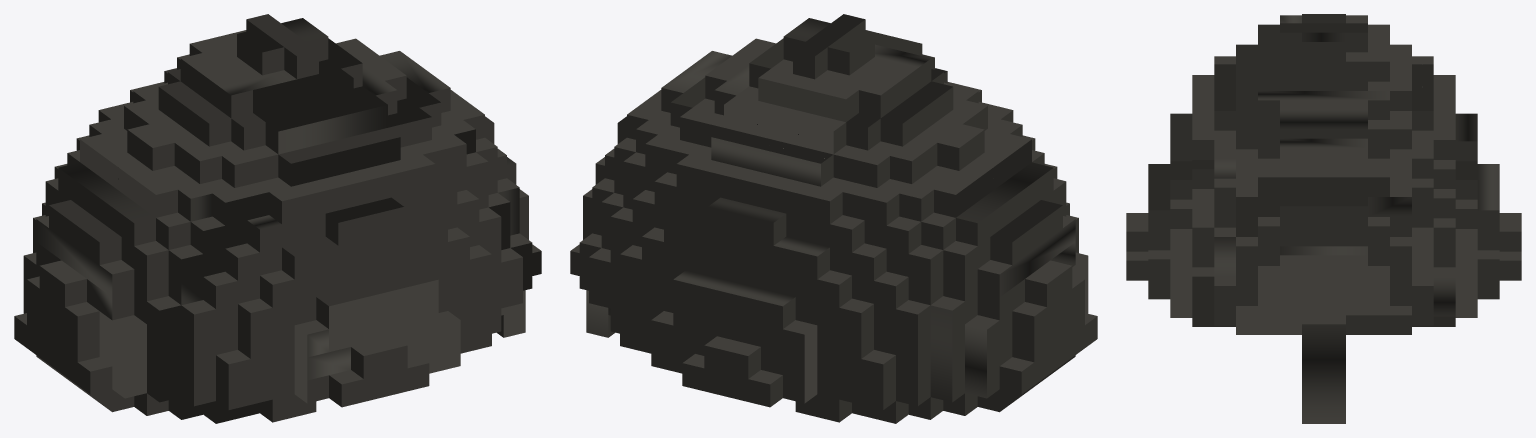
Rendered from Helm_Nasal_M.obj.
3 views of the same model, side by side, from view 1: azimuth 30°, elevation 25°; view 2: azimuth 150°, elevation 25°; view 3: azimuth 270°, elevation 25° (orthographic). The views are drawn at different scales.
Visible parts, largest first — view 1: Helm_Nasal_M; view 2: Helm_Nasal_M; view 3: Helm_Nasal_M.
Part boxes in pixels (bbox=[...]): Helm_Nasal_M: bbox=[14, 14, 541, 423]; Helm_Nasal_M: bbox=[570, 14, 1097, 423]; Helm_Nasal_M: bbox=[1126, 14, 1521, 423].
Size of the model in its own units: 21 by 15 by 18.
